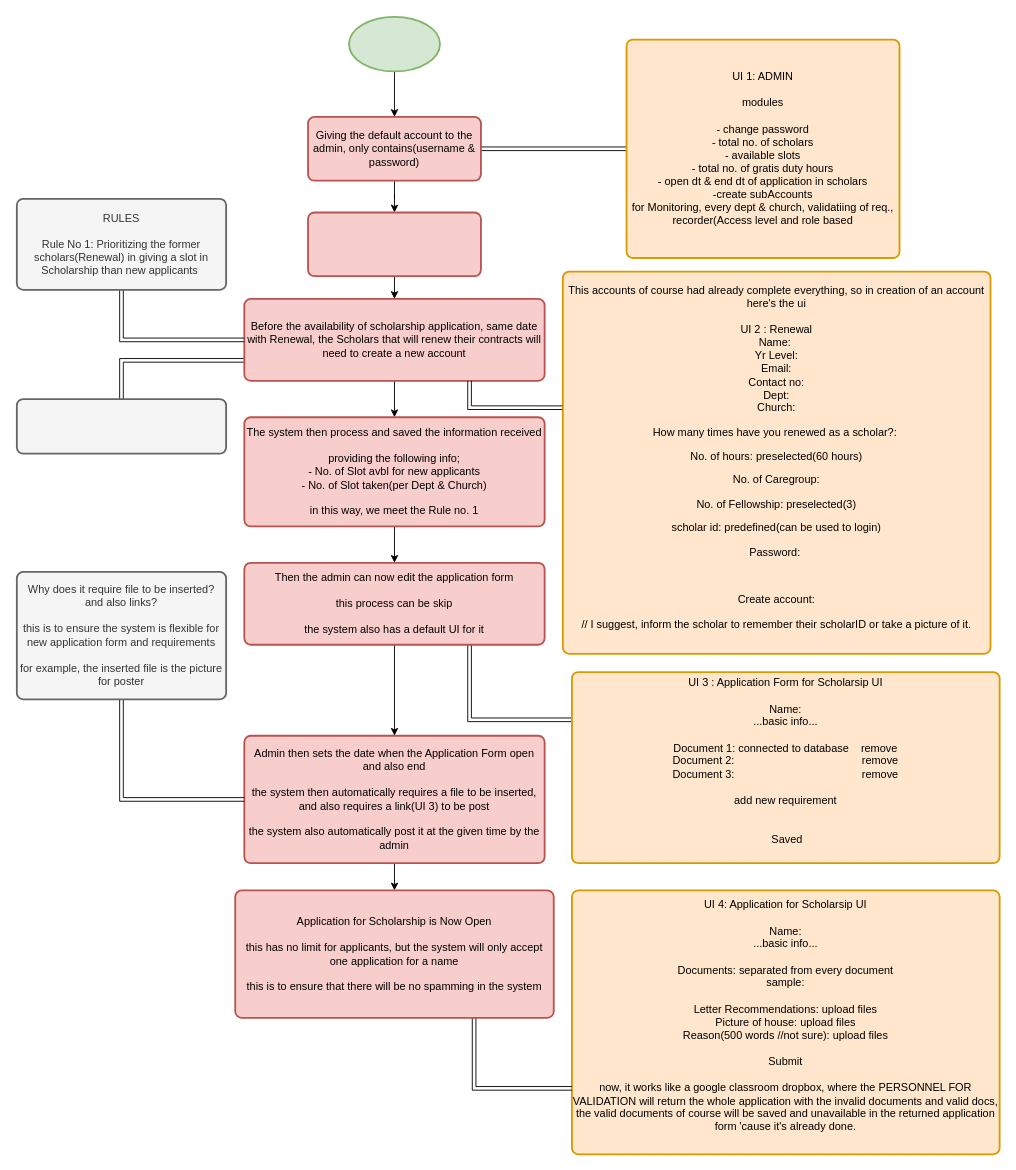
Image size: 1016x1170. Some labels were removed from this diagram. Each missing label, with the box of its shape:
Admin: (348, 15, 440, 72)
Starting the conversion from manual to computerized system: (307, 211, 481, 277)
This is to determine how many slots will be available for new applicants: (15, 398, 227, 454)
